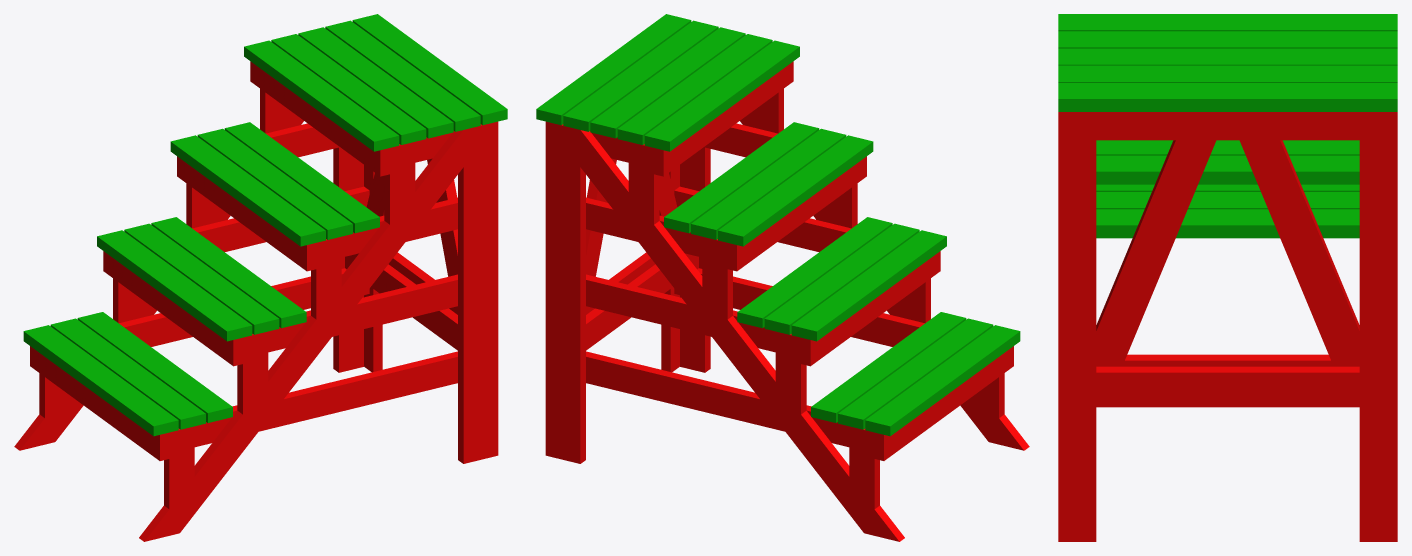
File: result.glb
3 views of the same model, side by side, from view 1: azimuth 30°, elevation 25°; view 2: azimuth 150°, elevation 25°; view 3: azimuth 270°, elevation 25° (orthographic). The views are drawn at different scales.
Parts seen in each view (by area): view 1: 1bb77642-a296-4dd9-a31e-c57f8bad8d84__undefined, 426d78a6-e606-421b-9577-b6c1d175ac06__undefined, 75328d1c-b9ae-4c0f-8b66-b0d08868d950__undefined, a995d188-0abc-4361-b2ec-dac6ce954f7c__undefined, b5c5d365-473a-4506-b4df-628be7f76a21__undefined, 48fe140e-c25c-4413-b0bb-a74738a71543__undefined, e2d7f1c8-1d78-417d-81c8-bc1959cccee5__undefined, 99cface6-3a98-4265-9070-ca8c1b929cbd__undefined, fc40a745-eb76-4824-a839-a82d836b7877__undefined, dd1f10ae-57a4-43e2-822d-fc6fefe35326__undefined, 3f843017-2b4c-4509-b18d-537c84fe0745__undefined, d7ba3410-561d-4663-92ad-2dc0798db58e__undefined (+31 smaller); view 2: 418d65a7-f18f-463d-8534-02cdeebfcd68__undefined, 524825e2-709a-4330-9ff2-3a00b0ce8300__undefined, e2473147-1378-4f8c-9b78-63593555a323__undefined, b5c5d365-473a-4506-b4df-628be7f76a21__undefined, a995d188-0abc-4361-b2ec-dac6ce954f7c__undefined, 48fe140e-c25c-4413-b0bb-a74738a71543__undefined, e2d7f1c8-1d78-417d-81c8-bc1959cccee5__undefined, 0246467b-f2e5-4e6f-be4c-9d0440b66f71__undefined, fc40a745-eb76-4824-a839-a82d836b7877__undefined, dd1f10ae-57a4-43e2-822d-fc6fefe35326__undefined, 3f843017-2b4c-4509-b18d-537c84fe0745__undefined, d7ba3410-561d-4663-92ad-2dc0798db58e__undefined (+32 smaller); view 3: 30629180-cc4a-403b-b794-3fc3f5c7fa09__undefined, 779707e3-0414-4b6a-b4a0-05eb1f6ed338__undefined, 48058544-b4aa-4a2a-8fcd-30c0e93a5f5d__undefined (×2), 5a1b959d-a817-44e5-9e96-f80c0d0e4dfa__undefined, 240d1eb1-f608-42f5-8d39-36a59fa239eb__undefined, dd1f10ae-57a4-43e2-822d-fc6fefe35326__undefined, a9a5fbae-2e67-4985-afc4-40f29f9a1577__undefined, e2d7f1c8-1d78-417d-81c8-bc1959cccee5__undefined, 3f843017-2b4c-4509-b18d-537c84fe0745__undefined, bc8dca05-7e13-4d2a-b6c5-4af037ba6b88__undefined, fc40a745-eb76-4824-a839-a82d836b7877__undefined, 979c0452-f557-469b-aff8-d3a783a364be__undefined (+5 smaller).
Boxes of the visible parts, x1,y1,x2,y2 form: 1bb77642-a296-4dd9-a31e-c57f8bad8d84__undefined: (139, 130, 463, 541); 426d78a6-e606-421b-9577-b6c1d175ac06__undefined: (458, 124, 488, 463); 75328d1c-b9ae-4c0f-8b66-b0d08868d950__undefined: (194, 351, 457, 447); a995d188-0abc-4361-b2ec-dac6ce954f7c__undefined: (170, 135, 325, 246); b5c5d365-473a-4506-b4df-628be7f76a21__undefined: (23, 325, 178, 436); 48fe140e-c25c-4413-b0bb-a74738a71543__undefined: (97, 230, 252, 341); e2d7f1c8-1d78-417d-81c8-bc1959cccee5__undefined: (244, 40, 399, 151); 99cface6-3a98-4265-9070-ca8c1b929cbd__undefined: (268, 274, 457, 352); fc40a745-eb76-4824-a839-a82d836b7877__undefined: (325, 20, 480, 131); dd1f10ae-57a4-43e2-822d-fc6fefe35326__undefined: (352, 14, 507, 125); 3f843017-2b4c-4509-b18d-537c84fe0745__undefined: (271, 34, 426, 144); d7ba3410-561d-4663-92ad-2dc0798db58e__undefined: (50, 318, 205, 429); 418d65a7-f18f-463d-8534-02cdeebfcd68__undefined: (580, 130, 904, 541); 524825e2-709a-4330-9ff2-3a00b0ce8300__undefined: (555, 124, 585, 463); e2473147-1378-4f8c-9b78-63593555a323__undefined: (586, 351, 849, 447); b5c5d365-473a-4506-b4df-628be7f76a21__undefined: (865, 325, 1020, 436); a995d188-0abc-4361-b2ec-dac6ce954f7c__undefined: (718, 135, 873, 246); 48fe140e-c25c-4413-b0bb-a74738a71543__undefined: (791, 230, 946, 341); e2d7f1c8-1d78-417d-81c8-bc1959cccee5__undefined: (644, 40, 799, 151); 0246467b-f2e5-4e6f-be4c-9d0440b66f71__undefined: (586, 274, 775, 352); fc40a745-eb76-4824-a839-a82d836b7877__undefined: (563, 20, 718, 131); dd1f10ae-57a4-43e2-822d-fc6fefe35326__undefined: (536, 14, 691, 125); 3f843017-2b4c-4509-b18d-537c84fe0745__undefined: (617, 34, 772, 144); d7ba3410-561d-4663-92ad-2dc0798db58e__undefined: (838, 318, 993, 429); 30629180-cc4a-403b-b794-3fc3f5c7fa09__undefined: (1058, 140, 1096, 541); 779707e3-0414-4b6a-b4a0-05eb1f6ed338__undefined: (1359, 140, 1397, 541); 48058544-b4aa-4a2a-8fcd-30c0e93a5f5d__undefined (×2): (1096, 140, 1215, 366); 5a1b959d-a817-44e5-9e96-f80c0d0e4dfa__undefined: (1096, 366, 1359, 407); 240d1eb1-f608-42f5-8d39-36a59fa239eb__undefined: (1058, 112, 1397, 140); dd1f10ae-57a4-43e2-822d-fc6fefe35326__undefined: (1058, 83, 1397, 111); a9a5fbae-2e67-4985-afc4-40f29f9a1577__undefined: (1239, 140, 1359, 366); e2d7f1c8-1d78-417d-81c8-bc1959cccee5__undefined: (1058, 14, 1397, 31); 3f843017-2b4c-4509-b18d-537c84fe0745__undefined: (1058, 31, 1397, 48); bc8dca05-7e13-4d2a-b6c5-4af037ba6b88__undefined: (1058, 48, 1397, 65); fc40a745-eb76-4824-a839-a82d836b7877__undefined: (1058, 65, 1397, 82); 979c0452-f557-469b-aff8-d3a783a364be__undefined: (1096, 209, 1359, 238).
Bounding box in the file's own units: 952 × 861 × 590.
